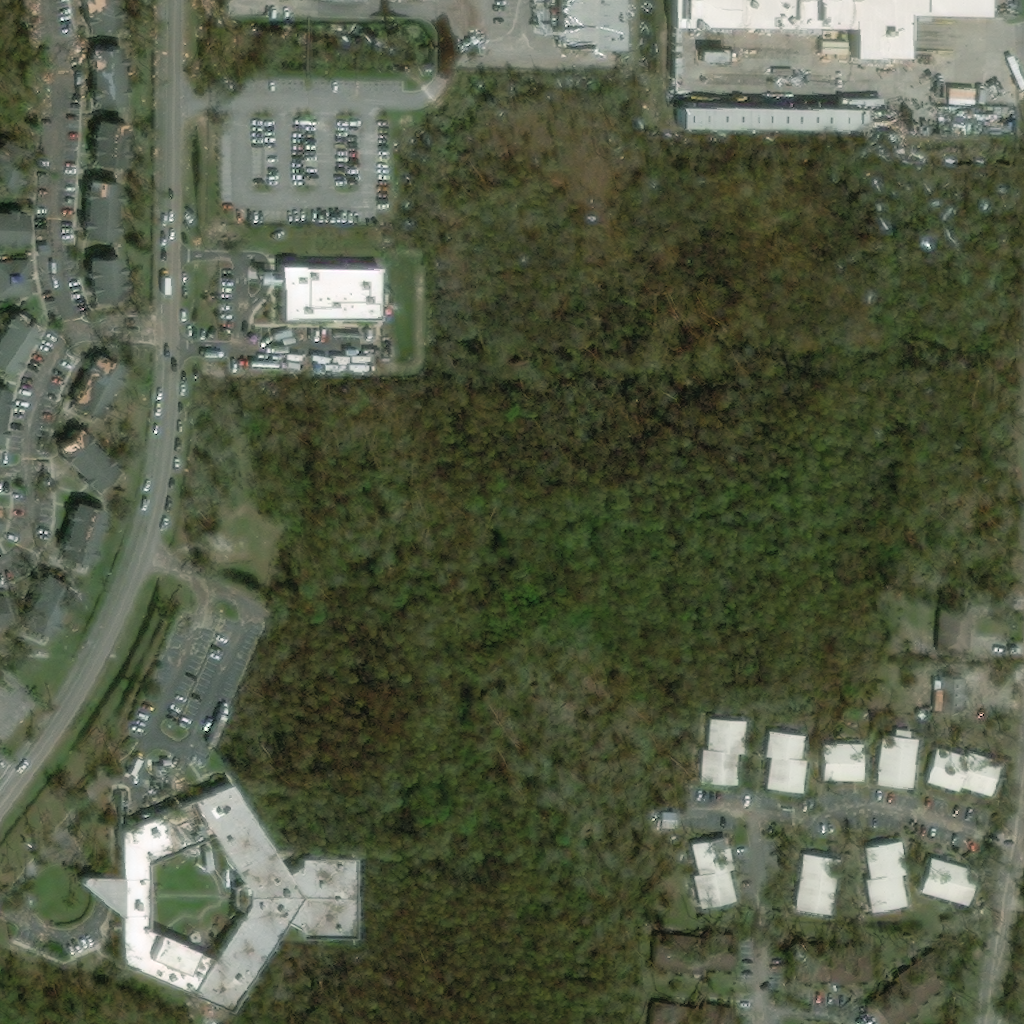major_damage: (76, 783, 354, 1010), (671, 104, 906, 129), (529, 0, 628, 48), (49, 425, 118, 493), (67, 354, 125, 422)
minor_damage: (53, 500, 107, 575), (76, 178, 118, 245), (84, 44, 126, 111), (0, 143, 40, 193), (87, 121, 119, 168), (74, 0, 112, 36)
no_damage: (663, 0, 984, 59), (252, 259, 378, 320), (869, 955, 957, 1023), (17, 572, 75, 648), (654, 927, 737, 977), (924, 748, 999, 796), (694, 837, 741, 911), (696, 718, 745, 786), (793, 944, 870, 987), (862, 841, 906, 912), (765, 728, 809, 790), (875, 728, 919, 789), (0, 309, 39, 376), (919, 853, 974, 900), (78, 254, 125, 306), (793, 853, 833, 912), (650, 999, 732, 1023), (0, 259, 38, 304), (820, 744, 865, 782), (934, 598, 968, 648), (936, 676, 972, 715), (0, 390, 21, 450), (0, 205, 27, 248), (37, 243, 52, 258)
unclassified: (312, 0, 361, 6), (395, 0, 441, 6)
